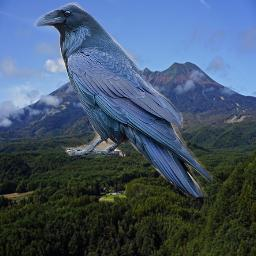Crow: (33, 2, 213, 197)
